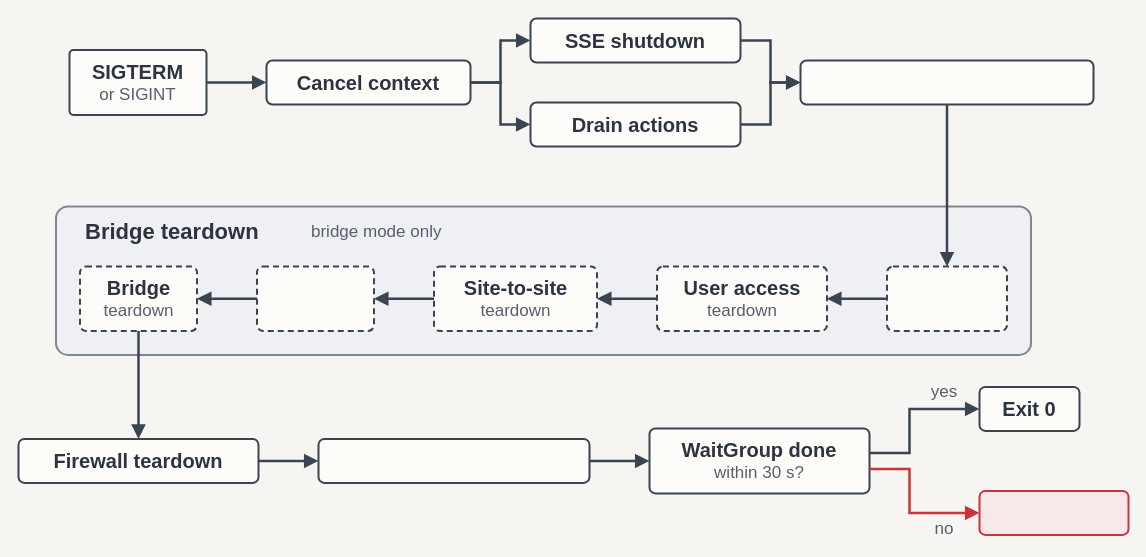
The diagram is 1146 pixels wide and 557 high, and some of its shapes have lost their labels. Each missing label, with the box of its shape:
ACME teardown: (256, 265, 374, 331)
Force exit: (978, 489, 1129, 535)
Ingress teardown: (886, 265, 1008, 331)
Mesh server shutdown: (799, 59, 1094, 105)
WireGuard teardown: (317, 437, 590, 483)
